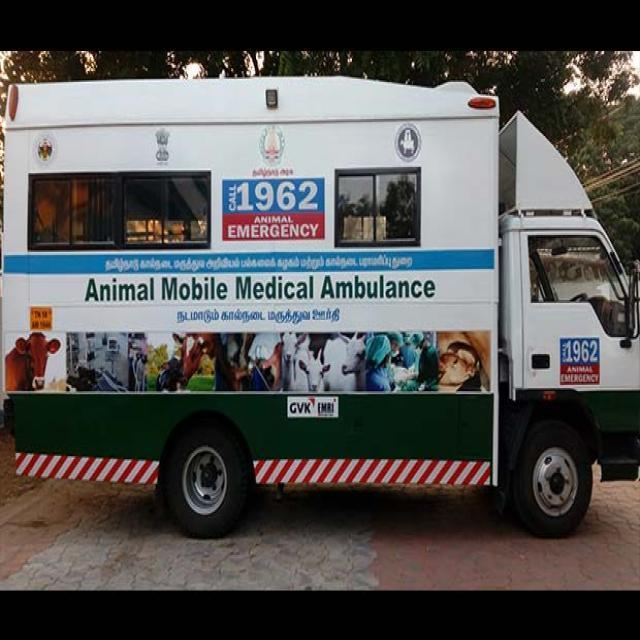Ambulance: (316, 267, 451, 305)
